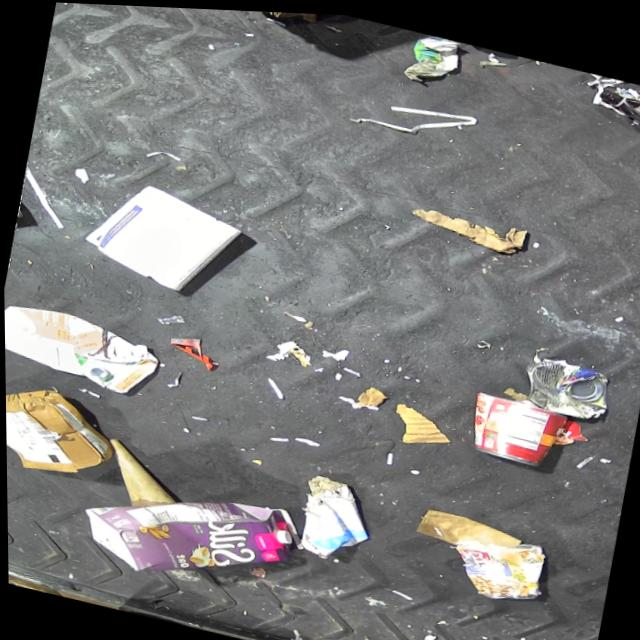can: (444, 520, 548, 604), (463, 384, 568, 467), (516, 344, 615, 420)
non_white_jug: (72, 460, 312, 607), (3, 298, 161, 399)
